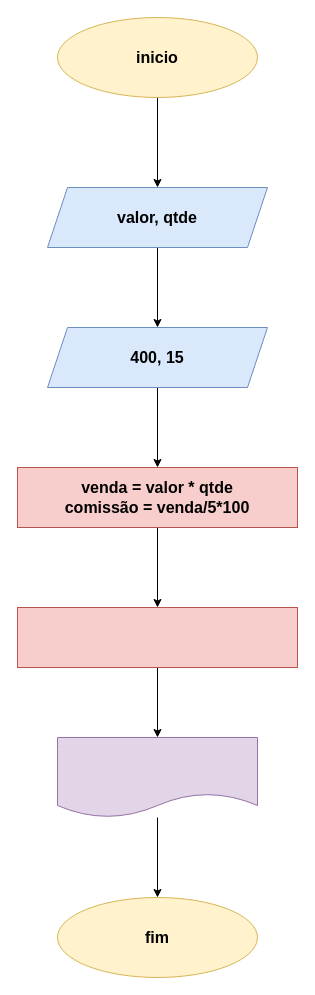
This 315x995 diagram has some shape labels left out. The shapes that lost their labels are listed below. From the top down, each one's centre as x and y in pixels, then its label:
the point at 157,637: venda = 400 * 15 comissão = 6000/5*100
the point at 157,777: comissão
